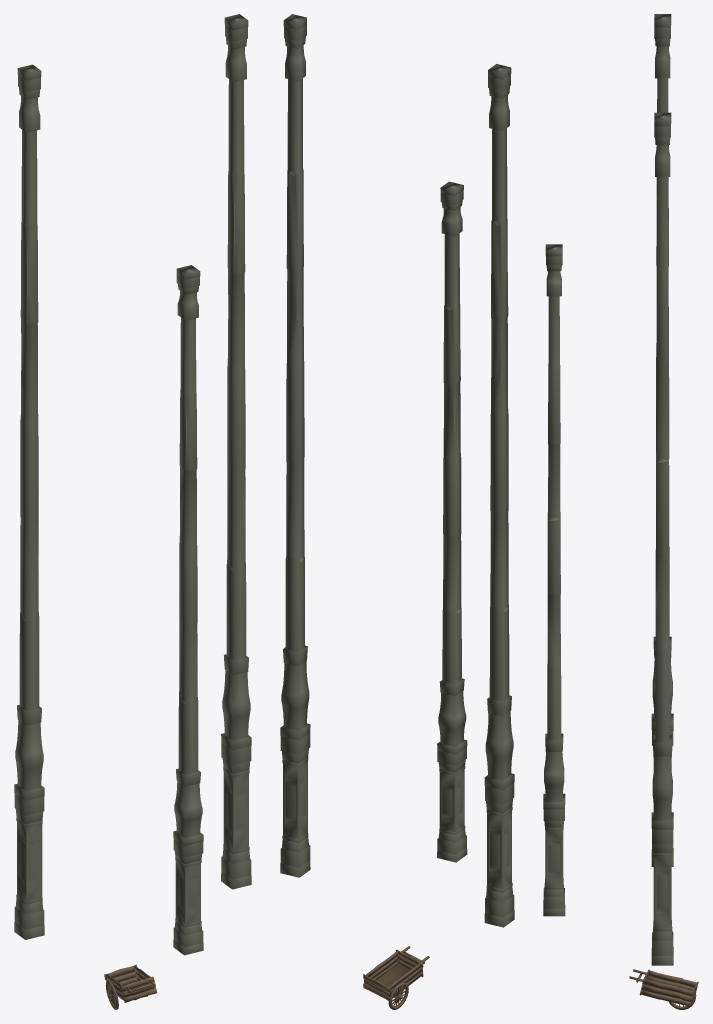
The model's file is airfield_props_draco.glb.
3 renders of one model, left to right at view 1: azimuth 30°, elevation 25°; view 2: azimuth 150°, elevation 25°; view 3: azimuth 270°, elevation 25°, orthographic. The views are drawn at different scales.
Visible parts, largest first — view 1: Cart.001; view 2: Cart.001; view 3: Cart.001.
Part boxes in pixels (x1,y1,x2,y2): Cart.001: [14, 14, 251, 1009]; Cart.001: [280, 14, 514, 1009]; Cart.001: [543, 14, 698, 1009].
Size of the model in its own units: 3.06 by 12.53 by 1.86.
Materials: 1 (1 with a texture image).
